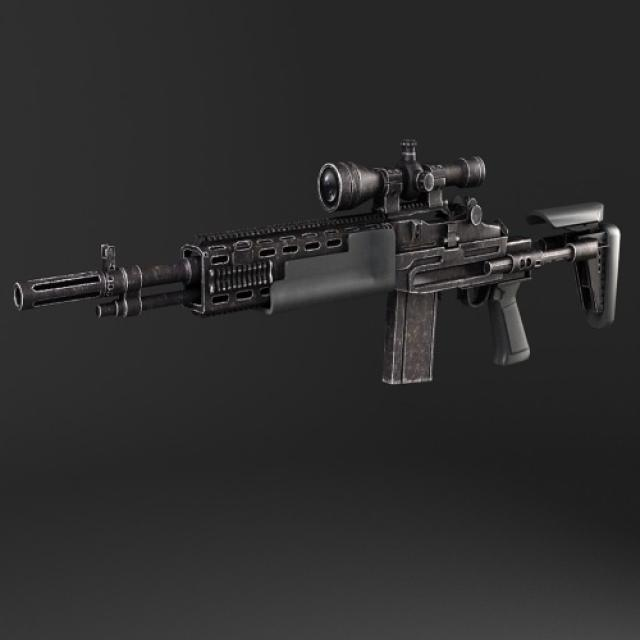Gun: (0, 156, 640, 394)
